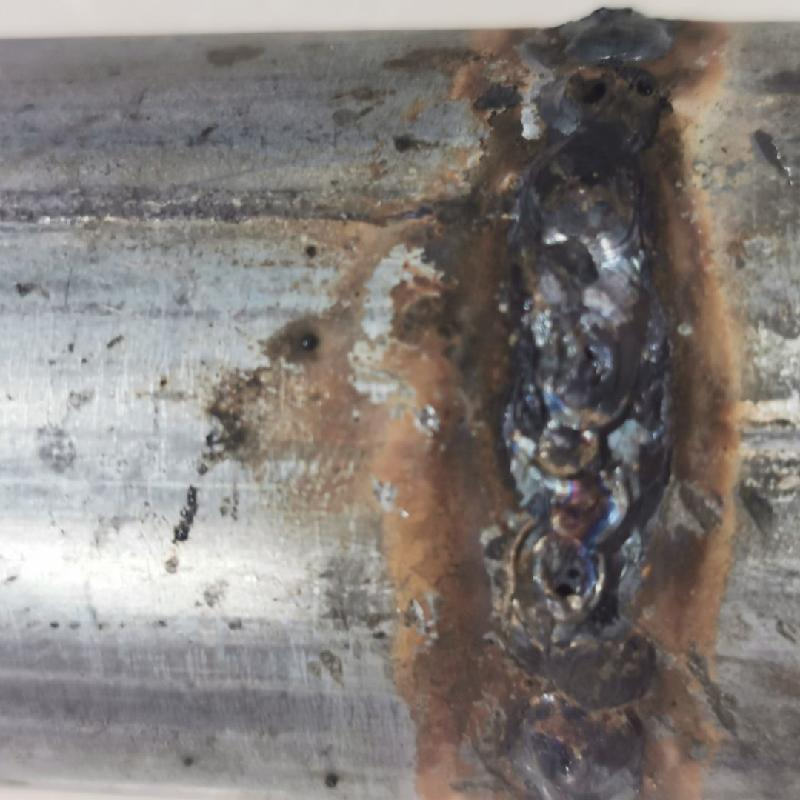Surface_pores: (566, 56, 662, 130), (534, 554, 598, 610)
crater: (513, 338, 665, 619)
wrong_size: (519, 5, 679, 320), (510, 620, 648, 799)
